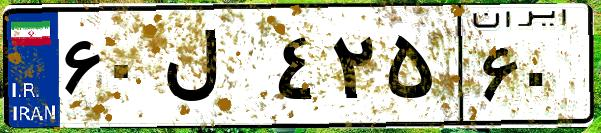0: (525, 38, 570, 115), (110, 28, 158, 98)
2: (330, 28, 385, 110)
4: (270, 28, 330, 110)
5: (385, 28, 445, 110)
6: (57, 26, 110, 100), (475, 38, 525, 113)
ل: (158, 20, 270, 120)
